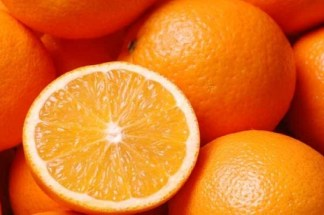orange: (19, 60, 202, 211), (130, 1, 294, 138), (179, 132, 323, 215)
